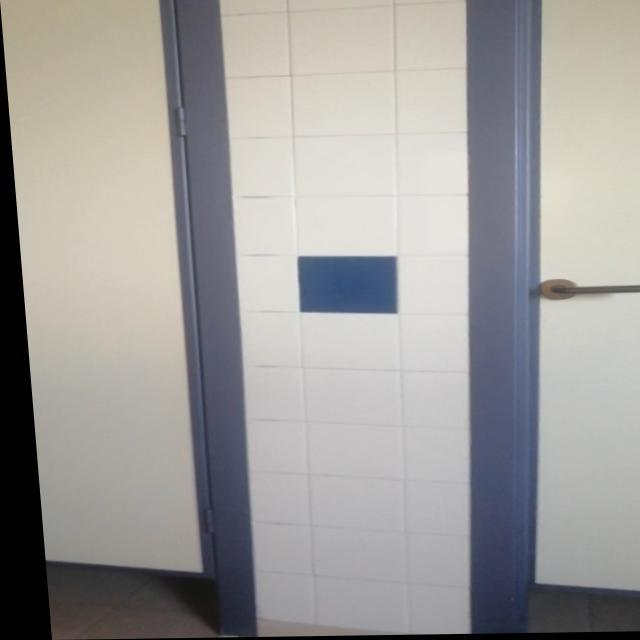door_handle: (541, 284, 640, 299)
